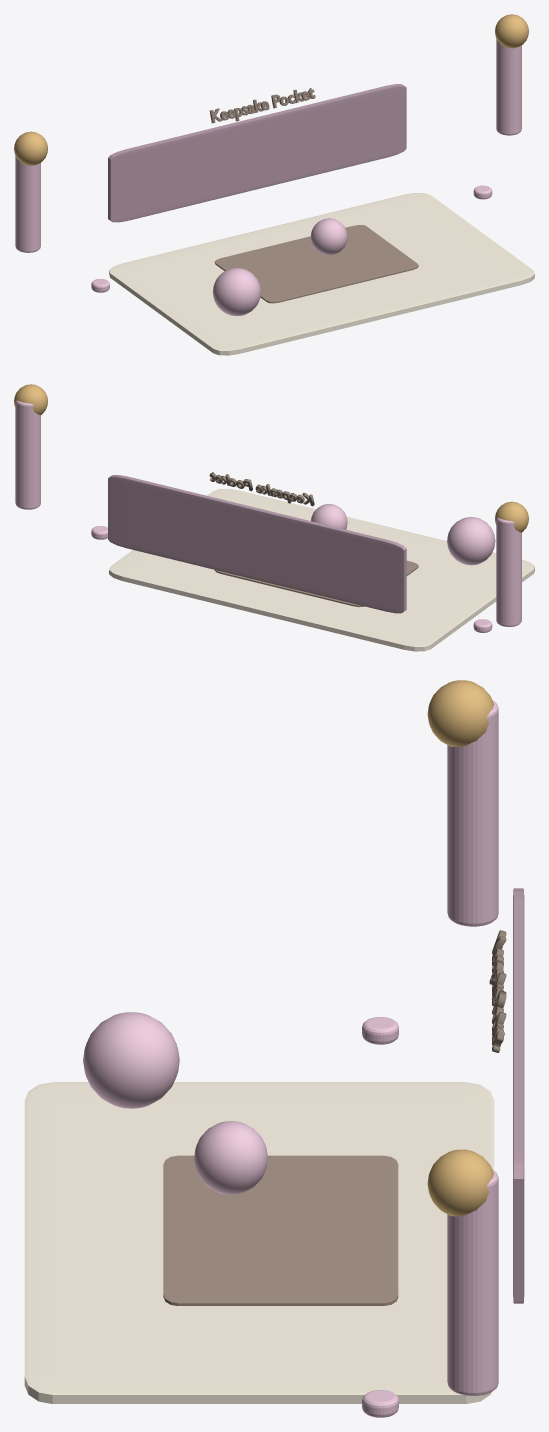
File: 10_inventory.glb
3 views of the same model, one above another, from view 1: azimuth 30°, elevation 25°; view 2: azimuth 150°, elevation 25°; view 3: azimuth 270°, elevation 25° (orthographic). The views are drawn at different scales.
Visible parts, largest first — view 1: PaperFloor-col, BackCard, StageMat, PaperLantern, PaperLantern.001, FpeRushPlayer, KeepsakePocket-rigid, TitleLabel, LanternGlow, LanternGlow.001; view 2: BackCard, PaperFloor-col, PaperLantern.001, PaperLantern, FpeRushPlayer, TitleLabel, LanternGlow, KeepsakePocket-rigid, LanternGlow.001, StageMat; view 3: PaperFloor-col, StageMat, PaperLantern, PaperLantern.001, FpeRushPlayer, BackCard, KeepsakePocket-rigid, LanternGlow.001, LanternGlow, TitleLabel, CardConfetti, CardConfetti.001.
Boxes of the visible parts, x1,y1,x2,y2 form: PaperFloor-col: (109,193,534,355); BackCard: (108,84,406,222); StageMat: (214,225,418,303); PaperLantern: (15,155,40,252); PaperLantern.001: (496,38,521,135); FpeRushPlayer: (212,268,260,315); KeepsakePocket-rigid: (310,218,347,255); TitleLabel: (209,88,315,123); LanternGlow: (14,131,47,165); LanternGlow.001: (495,14,528,48); BackCard: (108,475,406,613); PaperFloor-col: (109,489,534,651); PaperLantern.001: (15,400,40,509); PaperLantern: (496,518,521,626); FpeRushPlayer: (447,517,495,565); TitleLabel: (209,472,314,506); LanternGlow: (495,501,528,532); KeepsakePocket-rigid: (311,504,347,529); LanternGlow.001: (14,384,47,415); StageMat: (214,560,418,607); PaperFloor-col: (24,1082,494,1403); StageMat: (163,1155,398,1305); PaperLantern: (447,700,498,926); PaperLantern.001: (447,1169,498,1395); FpeRushPlayer: (83,1012,179,1108); BackCard: (513,888,524,1303); KeepsakePocket-rigid: (194,1121,267,1194); LanternGlow.001: (427,1149,493,1216); LanternGlow: (427,680,493,747); TitleLabel: (489,930,506,1052); CardConfetti: (362,1017,398,1044); CardConfetti.001: (362,1390,398,1417).
Bounding box in the file's own units: 8.28 × 2.56 × 3.51.
